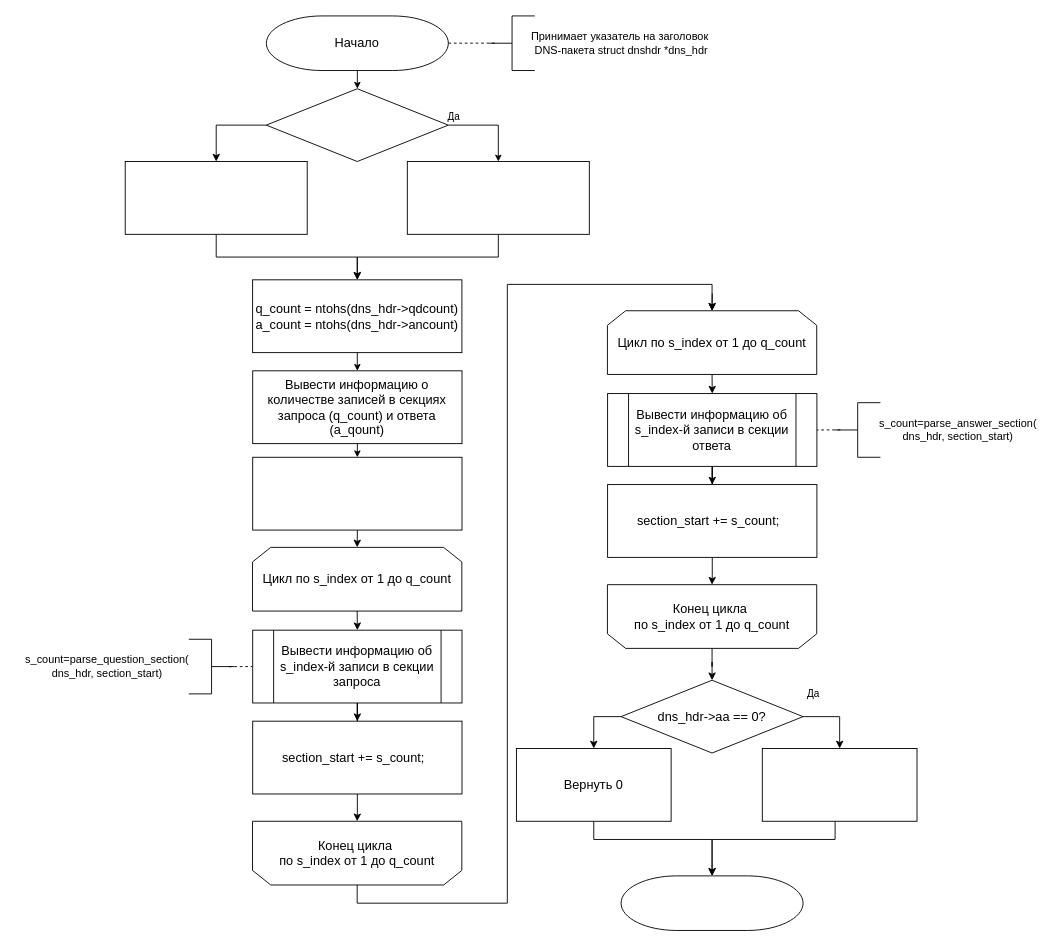
Some shapes in this 1059 by 946 pixel diagram are drawn without their labels. The centre of each missing label's shape, as x and y in pixels:
"dns_hdr->qr == 0?" goes at point (356, 125).
"section_start = ((__u8 *) dns_hdr) + sizeof(struct dnshdr) s_count = 0" goes at point (357, 493).
"Вернуть 1" goes at point (839, 784).
"Вывести тип пакета: запрос" goes at point (497, 197).
"Вывести тип пакета: ответ" goes at point (215, 197).
"Конец" goes at point (711, 902).
